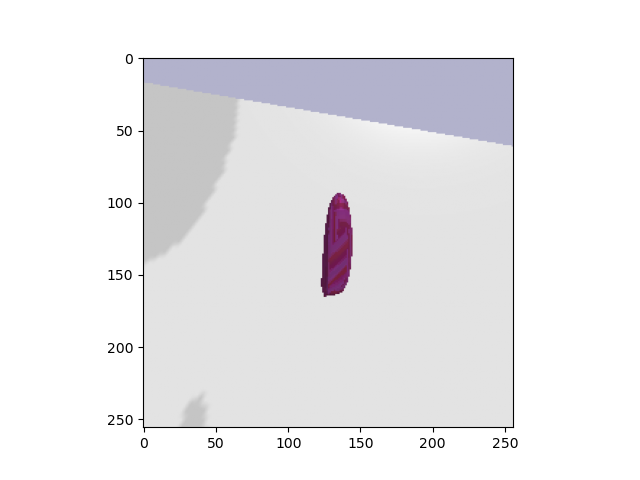v249b387_105: (313, 189, 360, 303)
